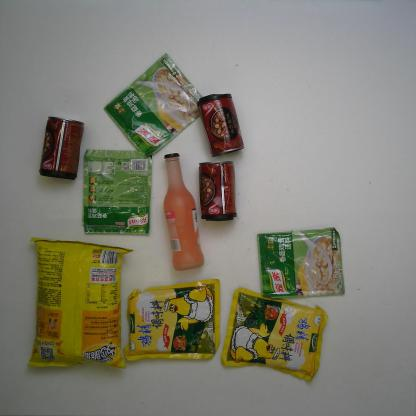Alcohol: (164, 153, 204, 271)
Canned Food: (196, 93, 244, 158), (38, 116, 84, 181), (198, 160, 238, 222)
Puffed Food: (25, 236, 134, 369)
Seasoner: (103, 52, 203, 159), (221, 287, 328, 383), (123, 279, 221, 362), (257, 227, 345, 299), (81, 149, 152, 235)
